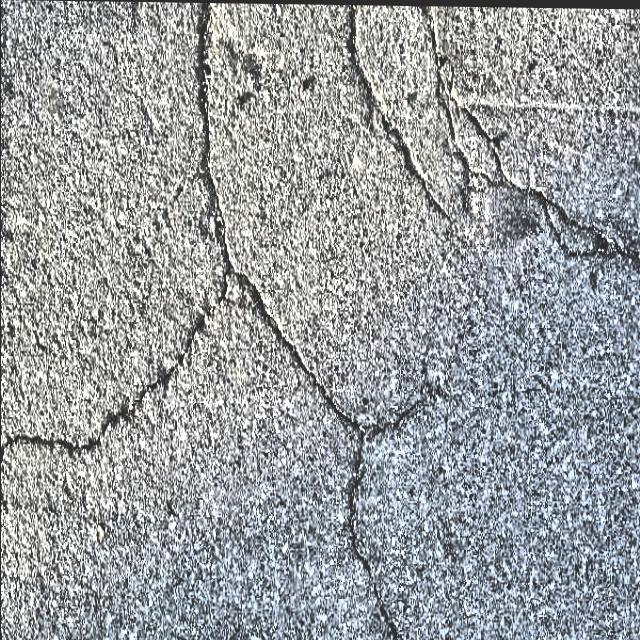cracks: (352, 4, 620, 253), (251, 289, 399, 640), (0, 303, 219, 453), (198, 2, 228, 316)
